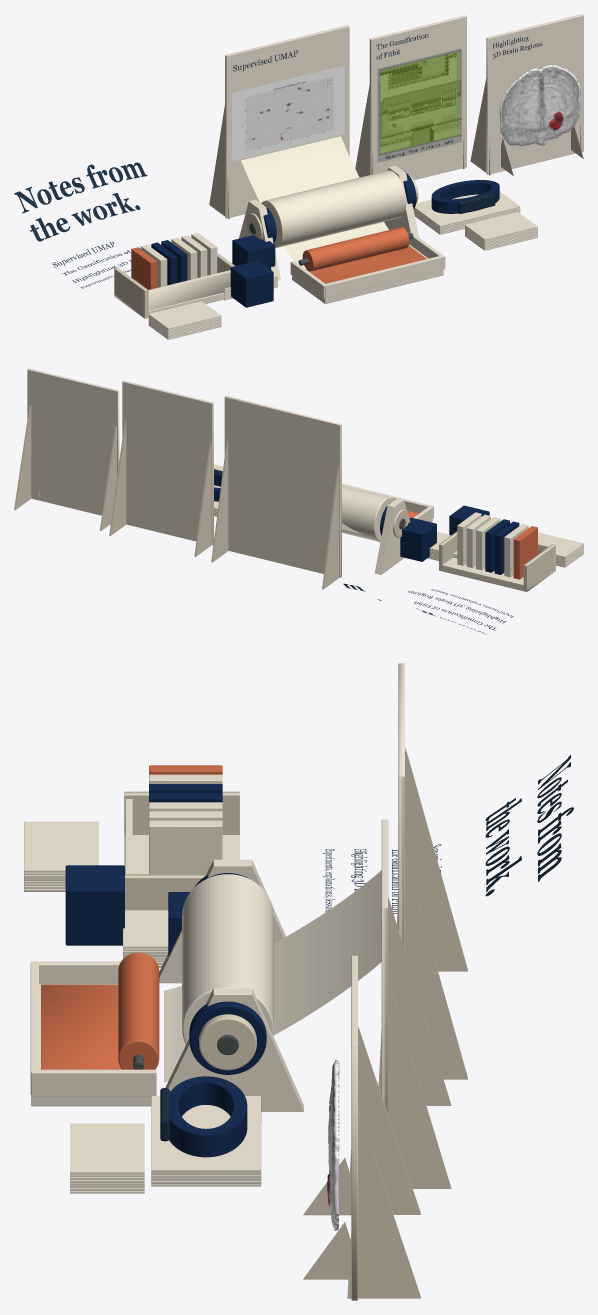
The model's file is writing.glb.
3 views of the same model, one above another, from view 1: azimuth 30°, elevation 25°; view 2: azimuth 150°, elevation 25°; view 3: azimuth 270°, elevation 25° (orthographic). The views are drawn at different scales.
Parts seen in each view (by area): view 1: Ink tray base, Original Fitbit game scene, Brain article folio, Original supervised embedding, UMAP proof sheet, Continuous folded proof sheet, Fitbit article folio, Layered proof paper, Source brain illustration relief, Coral ink bed, Plain cobalt printer block, Fitbit paper pedestal (+9 smaller); view 2: UMAP proof sheet, Fitbit article folio, Brain article folio, Layered proof paper, Fitbit article folio folded support, Brain article folio folded support, Plain cobalt printer block, Ink tray base, Ivory bearing ring, Press triangular folded support, Printer card; view 3: Brain article folio folded support, Ink tray base, Continuous folded proof sheet, Fitbit article folio folded support, Layered proof paper, Fitbit paper pedestal, Coral ink bed, Plain cobalt printer block, Fitness wristband, Ivory bearing ring, Printed Experiments, explanations, lessons., Brain article folio (+6 smaller).
Boxes of the visible parts, <box> form: Ink tray base: <box>261,170,445,303</box>; Original Fitbit game scene: <box>377,48,461,162</box>; Brain article folio: <box>486,14,583,174</box>; Original supervised embedding: <box>232,65,344,161</box>; UMAP proof sheet: <box>225,25,349,218</box>; Continuous folded proof sheet: <box>241,136,419,267</box>; Fitbit article folio: <box>369,15,466,179</box>; Layered proof paper: <box>114,232,277,339</box>; Source brain illustration relief: <box>499,64,580,146</box>; Coral ink bed: <box>302,227,426,283</box>; Plain cobalt printer block: <box>151,235,275,307</box>; Fitbit paper pedestal: <box>413,191,537,250</box>; UMAP proof sheet: <box>224,396,341,577</box>; Fitbit article folio: <box>122,380,213,545</box>; Brain article folio: <box>27,368,119,515</box>; Layered proof paper: <box>428,512,583,591</box>; Fitbit article folio folded support: <box>194,439,339,589</box>; Brain article folio folded support: <box>14,405,126,535</box>; Plain cobalt printer block: <box>400,505,519,574</box>; Ink tray base: <box>342,483,433,541</box>; Ivory bearing ring: <box>393,509,555,589</box>; Press triangular folded support: <box>374,498,410,574</box>; Printer card: <box>513,526,537,579</box>; Brain article folio folded support: <box>303,980,451,1298</box>; Ink tray base: <box>30,874,273,1106</box>; Continuous folded proof sheet: <box>164,870,381,1111</box>; Fitbit article folio folded support: <box>378,747,467,1105</box>; Layered proof paper: <box>24,774,239,967</box>; Fitbit paper pedestal: <box>70,1096,261,1193</box>; Coral ink bed: <box>41,952,159,1069</box>; Plain cobalt printer block: <box>65,784,222,955</box>; Fitness wristband: <box>169,1076,247,1157</box>; Ivory bearing ring: <box>124,791,239,910</box>; Printed Experiments, explanations, lessons.: <box>323,755,573,911</box>; Brain article folio: <box>351,955,357,1300</box>.
Bounding box in the file's own units: 9.23 × 3.08 × 4.56.
9 materials, 3 textured.
